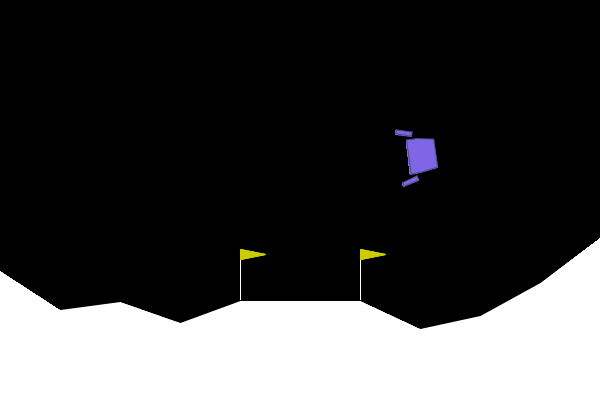lander: (393, 123, 441, 188)
